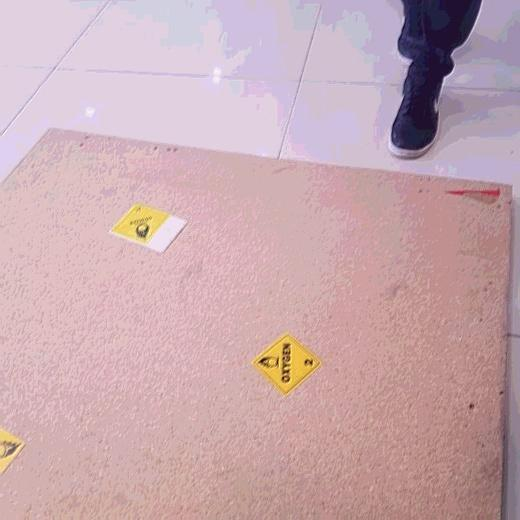oxidizer: (251, 335, 323, 397), (108, 204, 173, 246)
